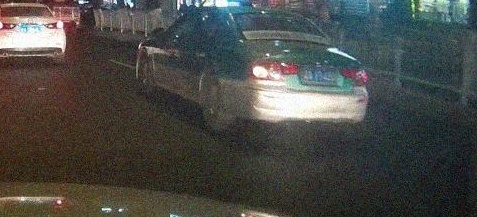L_light: (247, 60, 299, 78), (0, 22, 16, 29)
R_light: (339, 66, 368, 83), (43, 21, 64, 29)
T_light: (259, 11, 284, 15), (19, 6, 30, 8)
night-left: (226, 5, 368, 138)
night-no: (0, 3, 66, 65)
